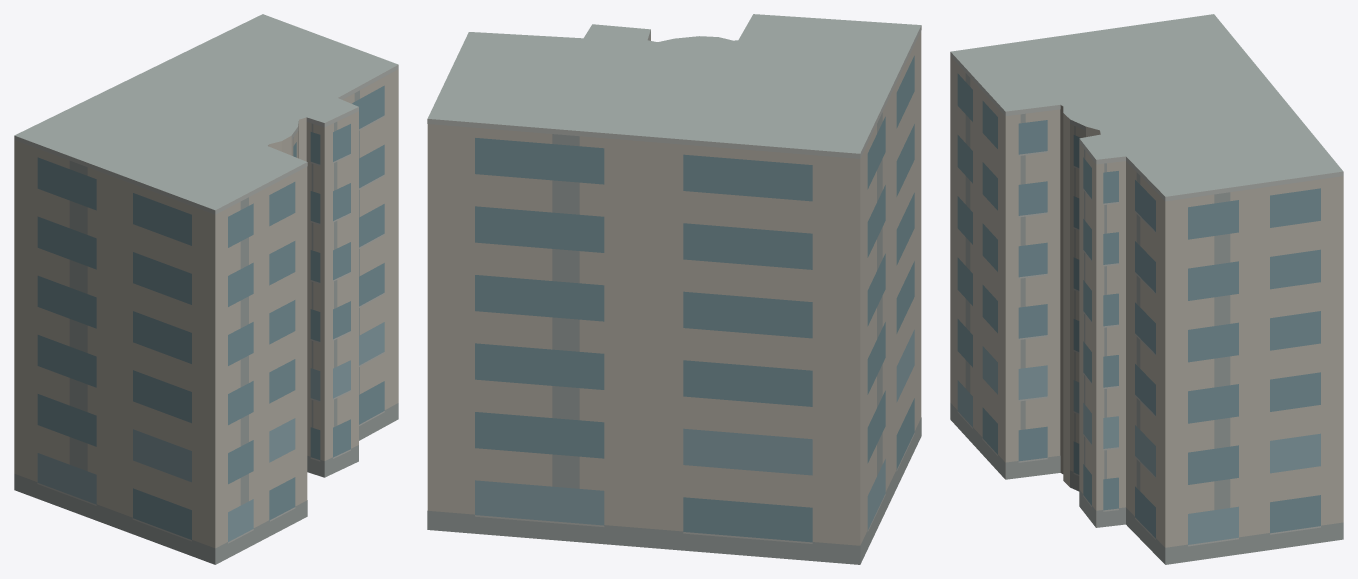
Rendered from survey-upis-33028582.glb.
3 renders of one model, left to right at view 1: azimuth 30°, elevation 25°; view 2: azimuth 150°, elevation 25°; view 3: azimuth 270°, elevation 25°, orthographic. The views are drawn at different scales.
Parts seen in each view (by area): view 1: survey-upis-33028582.tmp; view 2: survey-upis-33028582.tmp; view 3: survey-upis-33028582.tmp.
Boxes of the visible parts, box(x1,y1,x2,y2) form: survey-upis-33028582.tmp: box(14, 14, 398, 564); survey-upis-33028582.tmp: box(427, 14, 921, 564); survey-upis-33028582.tmp: box(950, 14, 1343, 564).
Bounding box in the file's own units: 20.79 × 19.5 × 18.88.
